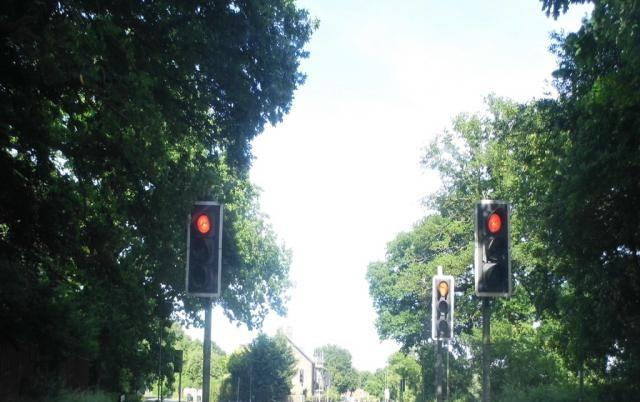red_light: (186, 201, 223, 296), (476, 200, 512, 296), (432, 274, 454, 341)
